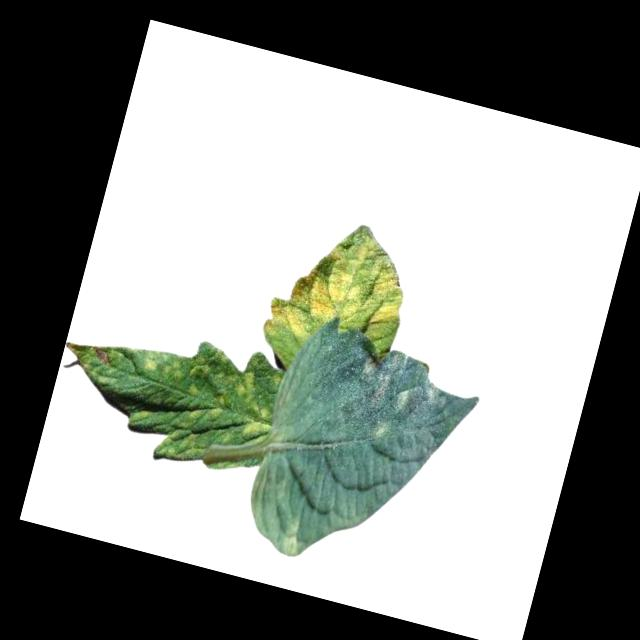Leaf_Mold: (43, 303, 293, 484), (260, 205, 423, 368), (345, 345, 454, 453), (237, 450, 325, 559)
